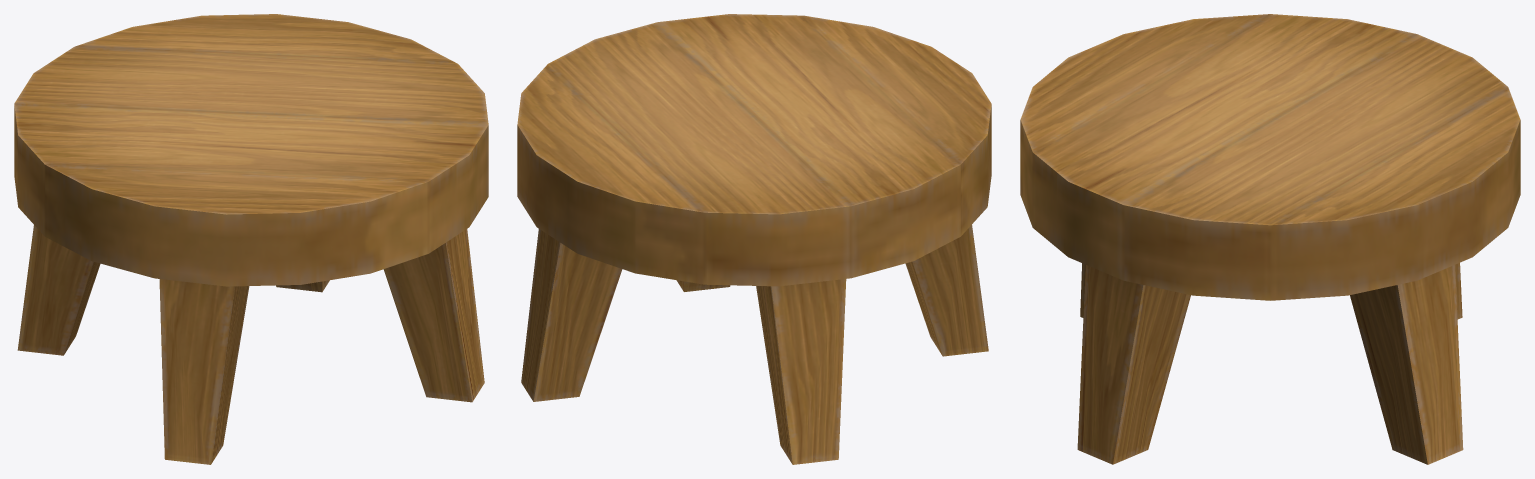
The model's file is sb_obj_indoor040_WoodChair.fbx.
3 renders of one model, left to right at view 1: azimuth 30°, elevation 25°; view 2: azimuth 150°, elevation 25°; view 3: azimuth 270°, elevation 25°, orthographic. The views are drawn at different scales.
Parts seen in each view (by area): view 1: sb_obj_indoor040_WoodChair; view 2: sb_obj_indoor040_WoodChair; view 3: sb_obj_indoor040_WoodChair.
Boxes of the visible parts, x1,y1,x2,y2 form: sb_obj_indoor040_WoodChair: [14, 14, 488, 464]; sb_obj_indoor040_WoodChair: [517, 14, 991, 464]; sb_obj_indoor040_WoodChair: [1020, 14, 1520, 464].
Size of the model in its own units: 0.6 by 0.35 by 0.6.
